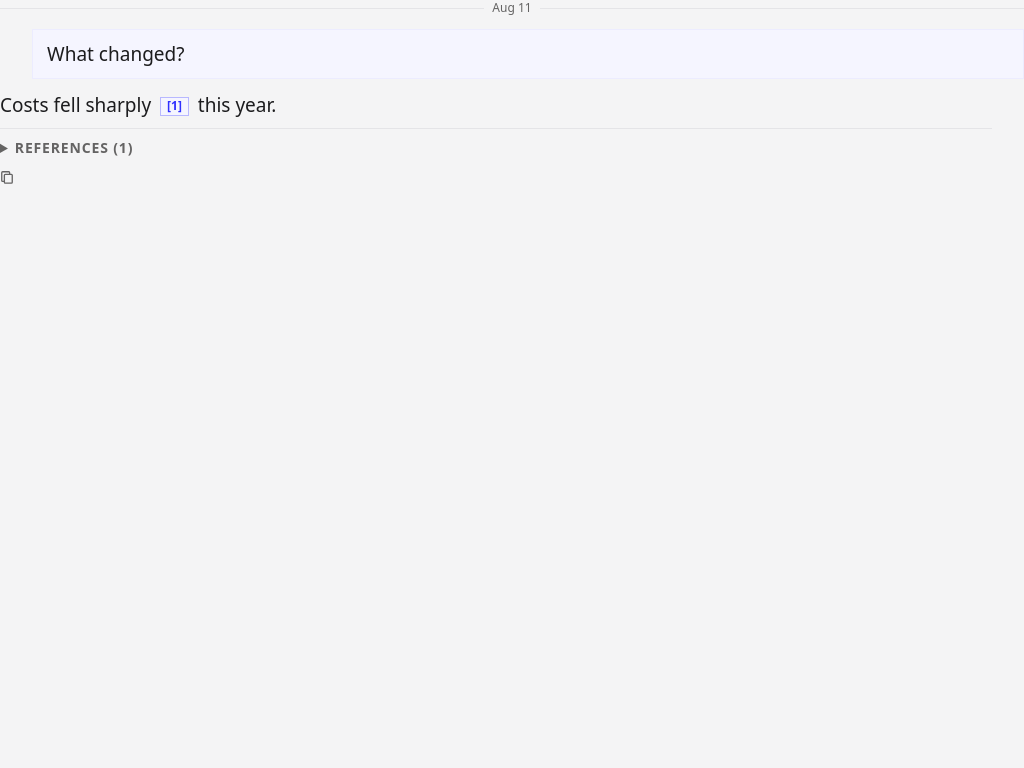
Test: ChatMessages › renders a claim span with the report's citation-marker treatment, opening a claim-oriented sheet over the claim's cited source (030 fold)
The image size is (1024, 768).
Click the button "Costs fell sharply": coordinates (76, 105) [0,92,151,118]
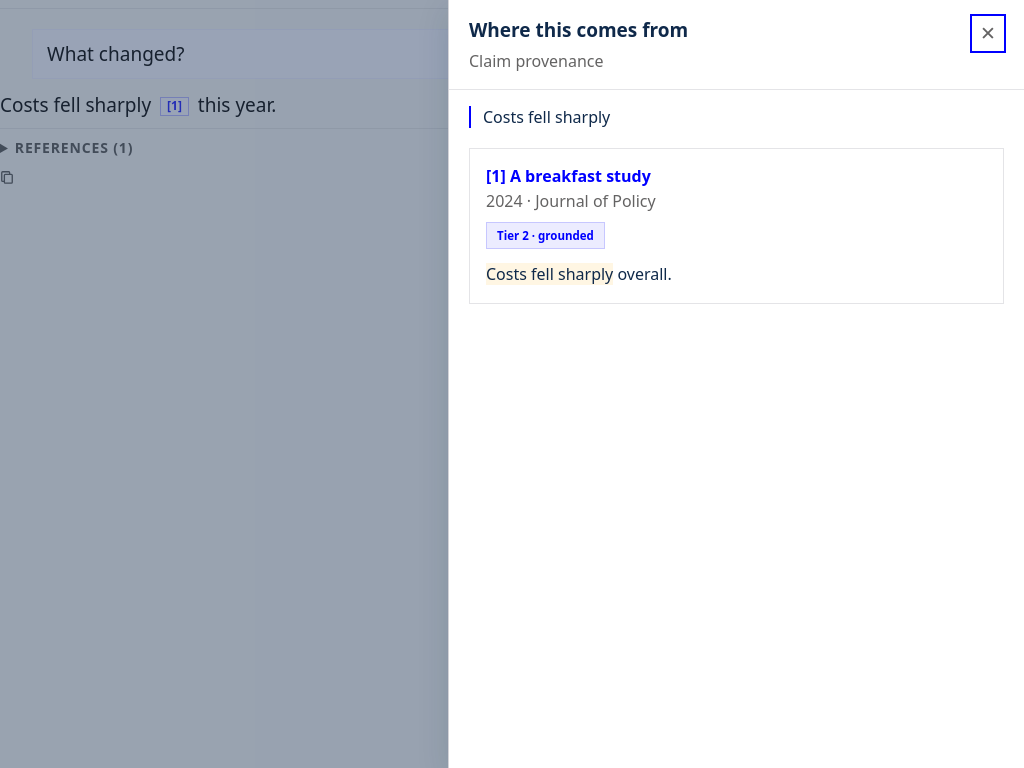
Now the text "Costs fell sharply" is shown 2 times, box [469,106,1004,128]; [486,263,613,285]
Now the button "A breakfast study" is shown, box [510,165,651,187]
Now the text "Costs fell sharply overall." is shown, box [486,263,672,285]
